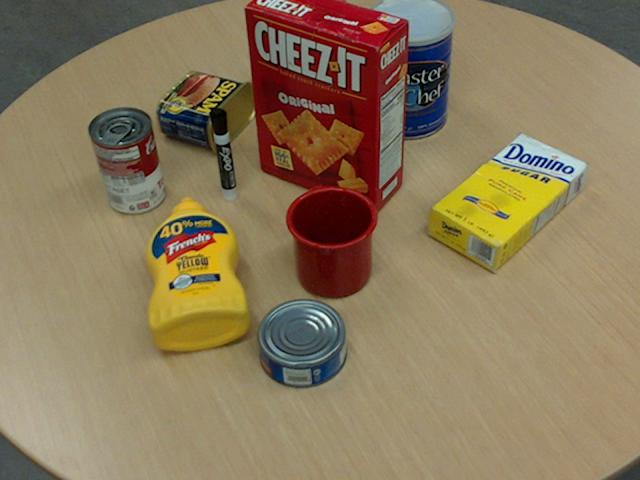cracker_box: (245, 0, 409, 211)
gelatin_box: (252, 46, 333, 111)
large_marker: (209, 108, 236, 202)
master_chef_can: (366, 0, 454, 140)
mug: (284, 185, 377, 297)
mustard_bottle: (144, 197, 250, 350)
potted_meat_can: (156, 70, 256, 152)
sugar_box: (427, 134, 587, 272)
tomato_soup_can: (87, 105, 163, 212)
tuna_fish_can: (257, 299, 347, 387)
